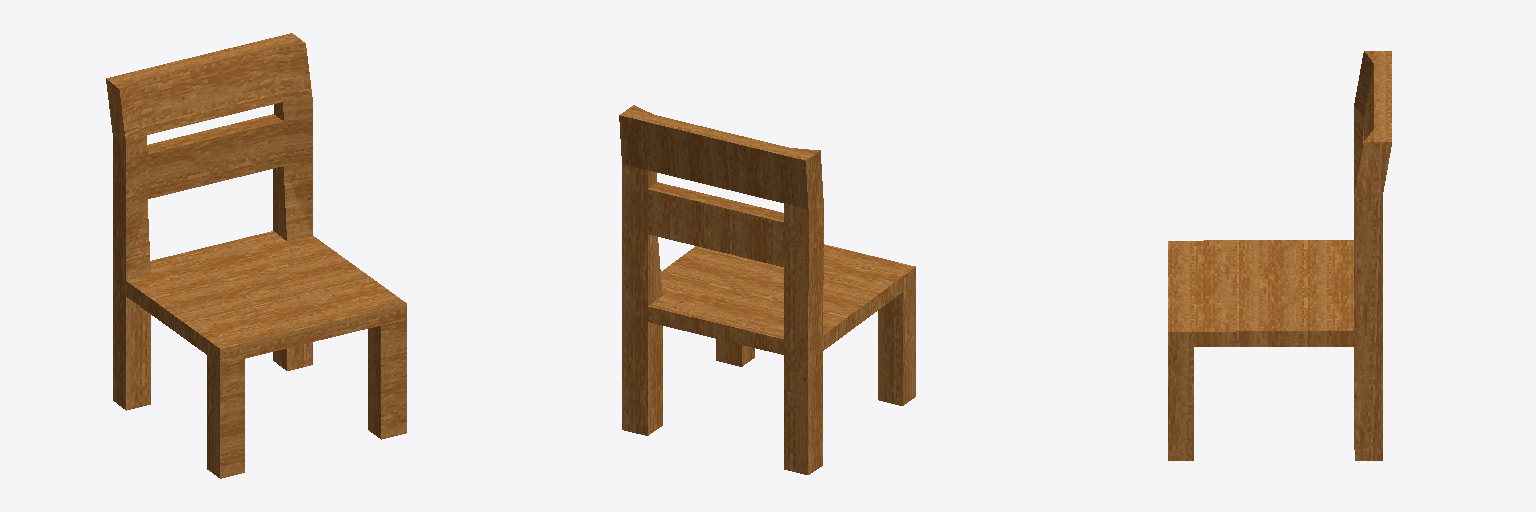
The picture shows the model from 3 angles: view 1: azimuth 30°, elevation 25°; view 2: azimuth 150°, elevation 25°; view 3: azimuth 270°, elevation 25°; orthographic projection.
Parts seen in each view (by area): view 1: Cube; view 2: Cube; view 3: Cube.
Boxes of the visible parts, x1=… form: Cube: x1=106, y1=33, x2=406, y2=478; Cube: x1=619, y1=105, x2=915, y2=474; Cube: x1=1168, y1=51, x2=1391, y2=460.
Size of the model in its own units: 2.03 by 3.26 by 2.09.
Materials: 1 (1 with a texture image).